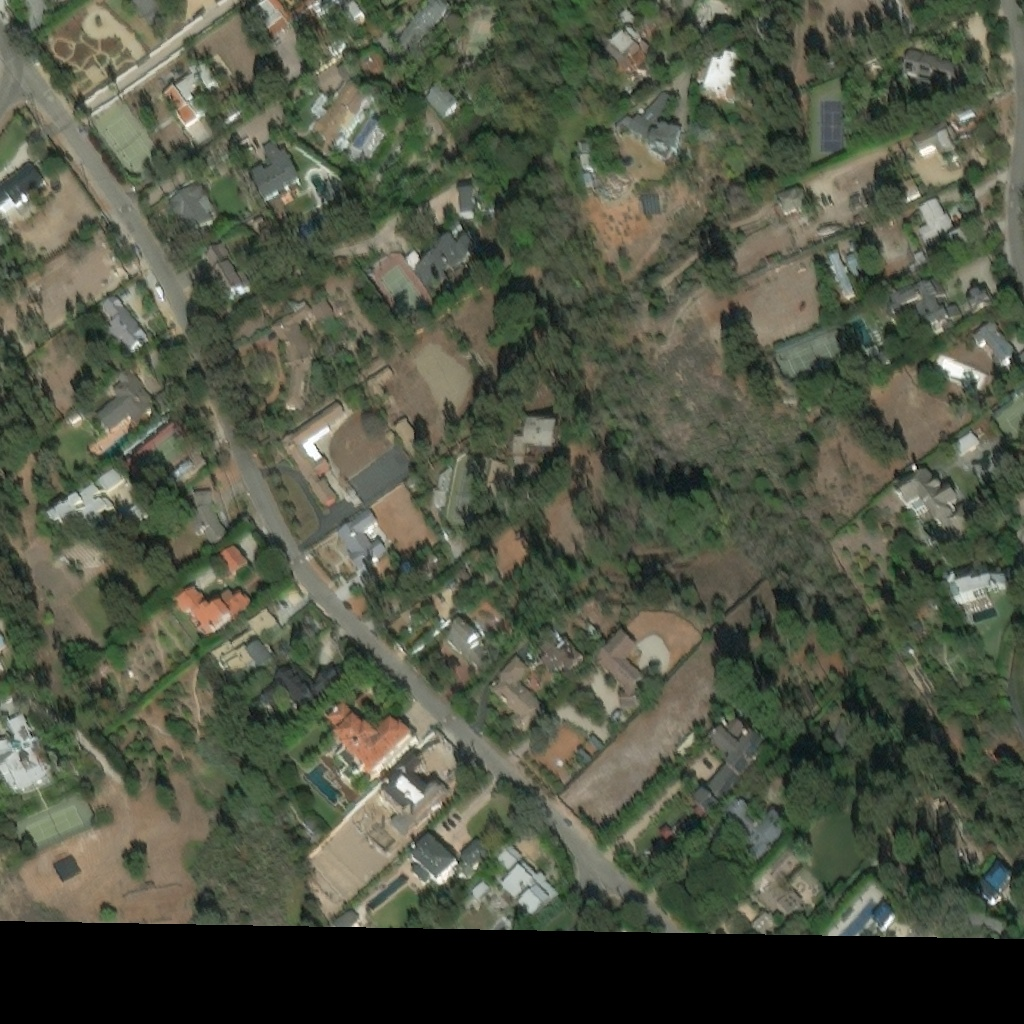0 no-damage: (323, 700, 414, 778), (275, 401, 342, 504), (894, 470, 974, 552), (44, 467, 140, 534), (703, 794, 787, 864), (0, 698, 53, 798), (256, 0, 345, 59), (381, 752, 445, 834), (749, 840, 820, 913), (413, 221, 483, 290), (207, 608, 278, 675), (889, 275, 961, 336), (258, 657, 344, 708), (170, 583, 249, 638), (703, 725, 763, 796), (486, 649, 542, 725), (312, 81, 368, 156), (271, 303, 311, 406), (407, 833, 490, 882), (94, 368, 153, 433), (895, 45, 970, 95), (592, 623, 640, 701), (246, 141, 297, 211), (817, 876, 884, 927), (499, 857, 557, 915), (946, 565, 1020, 609), (335, 505, 385, 569), (618, 88, 669, 144), (100, 294, 149, 352), (397, 0, 451, 51), (203, 242, 250, 298), (163, 87, 209, 142), (167, 184, 216, 235), (929, 350, 987, 390), (0, 164, 43, 214), (509, 418, 557, 462), (188, 489, 225, 546), (534, 627, 580, 670), (441, 615, 481, 662), (971, 320, 1014, 362), (175, 59, 217, 102), (915, 195, 953, 242), (908, 120, 956, 157), (604, 28, 648, 67), (348, 114, 384, 161), (704, 52, 737, 98), (424, 86, 463, 124), (824, 248, 854, 296), (267, 582, 307, 618), (648, 124, 682, 163), (169, 452, 204, 486), (828, 713, 861, 749), (214, 545, 247, 576), (485, 460, 509, 502), (363, 364, 392, 398), (774, 184, 808, 212), (348, 679, 377, 710), (860, 342, 891, 370), (982, 859, 1011, 888), (689, 783, 717, 813), (130, 0, 161, 26), (493, 840, 521, 868), (962, 286, 992, 312), (968, 876, 998, 902), (520, 387, 553, 410), (430, 467, 450, 503), (309, 296, 334, 324), (952, 430, 978, 455), (52, 856, 79, 880), (945, 228, 971, 251), (127, 501, 150, 527), (842, 249, 863, 277), (748, 906, 776, 926), (721, 713, 744, 737), (906, 248, 929, 271), (393, 418, 415, 442), (153, 390, 174, 415), (457, 187, 475, 216), (869, 897, 890, 921), (895, 175, 917, 197), (637, 193, 659, 214), (343, 3, 363, 24), (929, 798, 950, 816), (616, 8, 634, 25), (655, 818, 670, 837), (471, 878, 487, 895), (653, 0, 672, 14), (576, 138, 593, 153), (579, 155, 593, 171), (586, 729, 600, 743), (573, 742, 588, 755), (583, 174, 594, 189), (397, 559, 410, 571), (0, 637, 6, 653), (239, 127, 249, 135), (0, 666, 3, 678)
